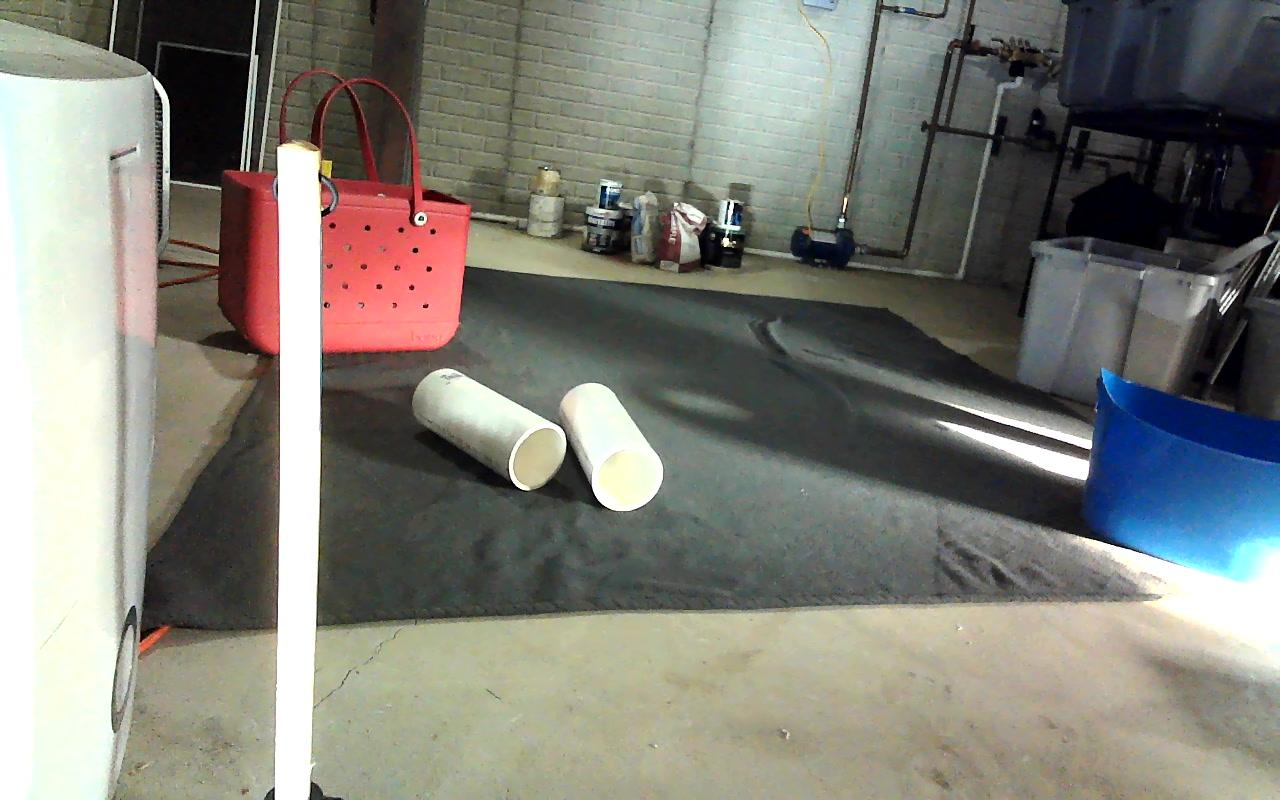coral: (412, 368, 567, 489), (558, 381, 662, 509)
